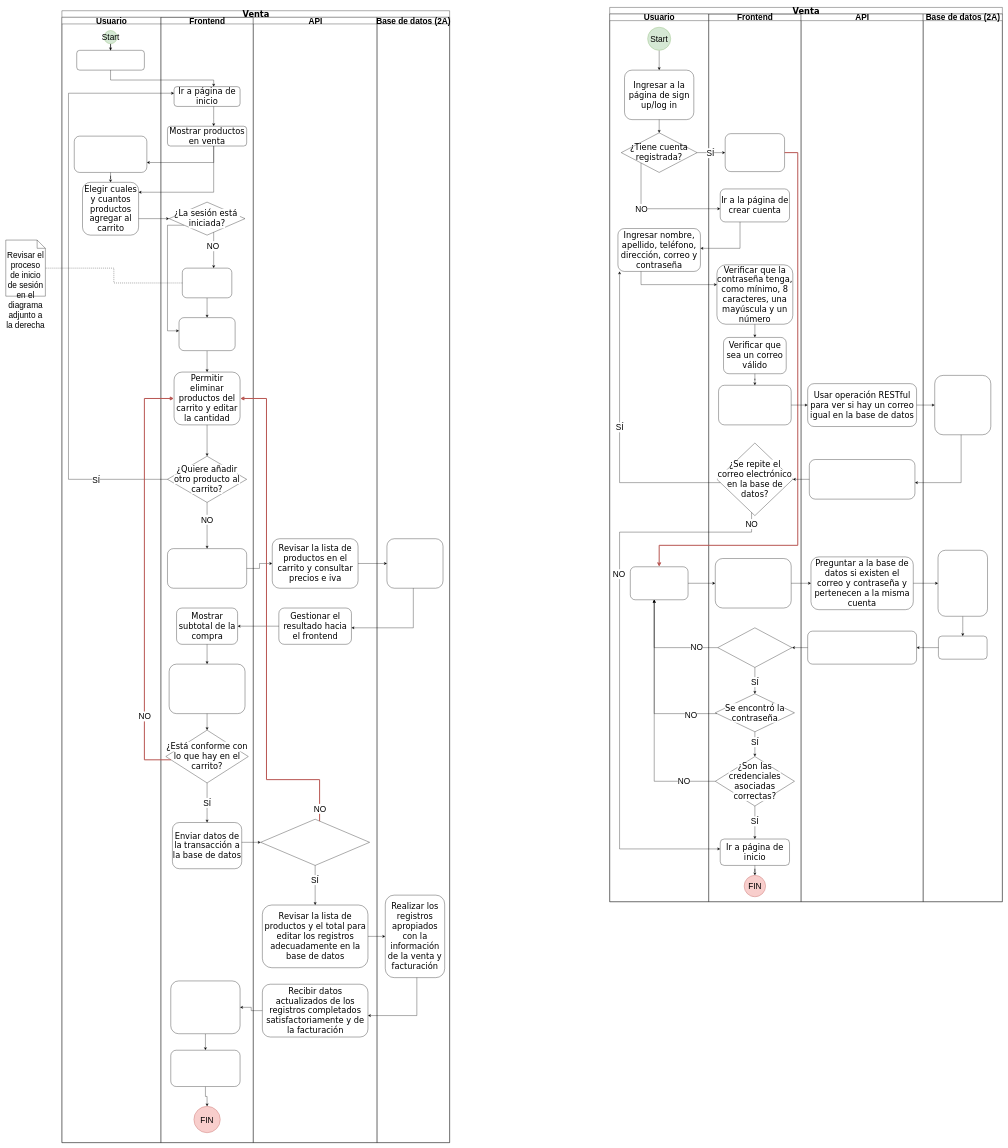
Some shapes in this 1008 by 1148 pixel diagram are drawn without their labels. Each missing label, with the centre of its shape:
Buscar producto en la página, usando filtros: point 110,154
Enviar respuesta: point 962,647
Hacer la consulta de los precios y el IVA aplicado: point 207,568
Ingresar a la página: point 110,60
Ingresar credenciales de acceso: point 659,583
Iniciar sesión: point 207,283
Ir a la página de iniciar sesión: point 755,152
Ir a la página del carrito: point 207,334
Mostrar feedback de la transacción realizada (Tipo factura): point 205,1007
Mostrar formulario de datos relevantes para la entrega del producto: point 207,689
Realizar solicitud a la API para verificar correo: point 754,405
Realizar y devolver resultado de la consulta: point 415,563
Recibir consulta y enviar respuesta al frontend: point 862,647
Recibir respuesta de la base de datos y reenviar a frontend: point 862,479
Redireccionar a la página de inicio: point 205,1068
Se encontró el correo: point 754,647
Verificar correo y contraseña de la misma cuenta: point 963,583
Verificar que el correo no se repita en la base de datos: point 962,405
Verificar si el correo y contraseña son los correctos con la API: point 753,583
¿Los productos en stock cubren la demanda de la venta?: point 315,842
